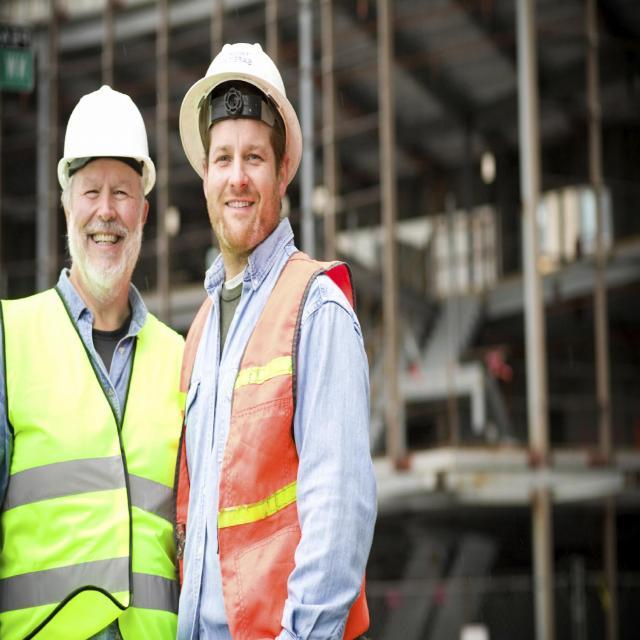reflective_jacket: (180, 248, 359, 636), (1, 287, 189, 635)
safety_helmet: (53, 80, 158, 192)
